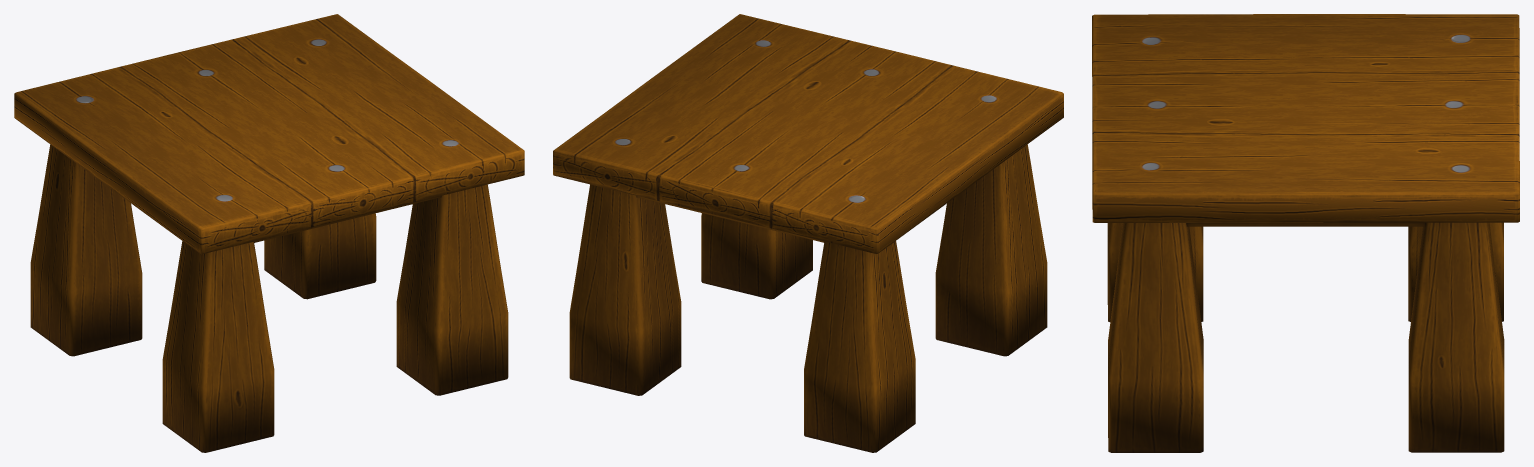
The model's file is Chair 3.fbx.
3 renders of one model, left to right at view 1: azimuth 30°, elevation 25°; view 2: azimuth 150°, elevation 25°; view 3: azimuth 270°, elevation 25°, orthographic. The views are drawn at different scales.
Parts seen in each view (by area): view 1: Chair 3; view 2: Chair 3; view 3: Chair 3.
Part boxes in pixels (left/top/right/bottom): Chair 3: left=14, top=14, right=524, bottom=452; Chair 3: left=553, top=14, right=1063, bottom=452; Chair 3: left=1092, top=14, right=1519, bottom=452.
Bounding box in the file's own units: 108 × 73.56 × 108.
